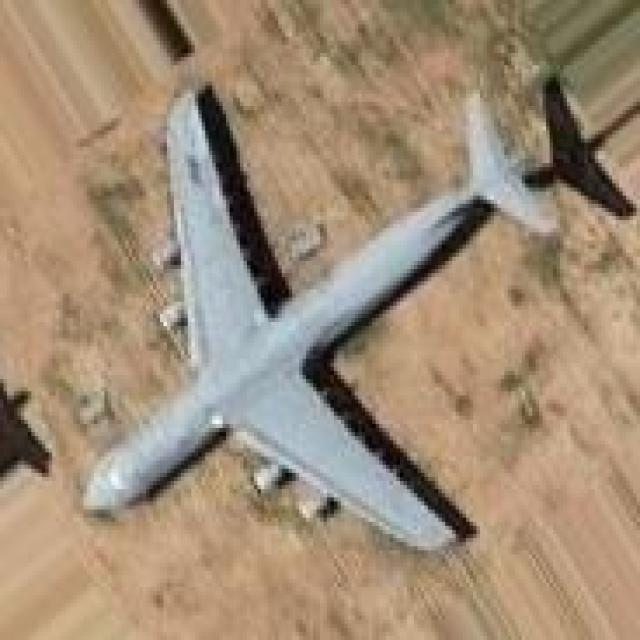C-5_TopDown: (76, 73, 556, 554)
